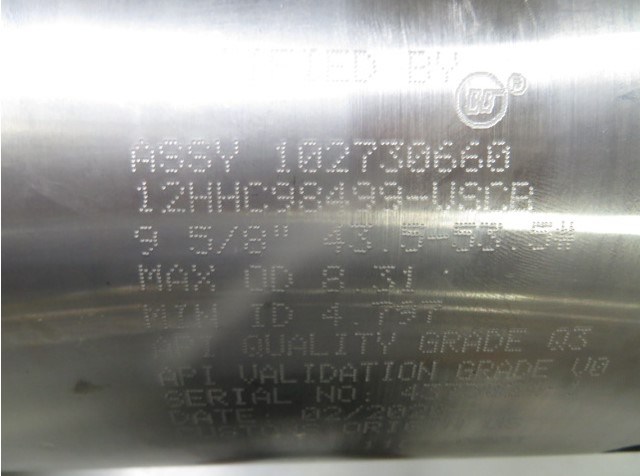character: (123, 134, 158, 173), (212, 134, 242, 176), (296, 135, 325, 176), (160, 180, 188, 219), (186, 178, 215, 215), (214, 178, 243, 215), (482, 178, 511, 215), (406, 139, 434, 177), (483, 136, 511, 174), (139, 300, 170, 334), (477, 218, 504, 257), (371, 260, 398, 299), (159, 136, 184, 178), (510, 178, 537, 216), (352, 137, 377, 177), (131, 223, 161, 256), (192, 303, 222, 336), (187, 139, 215, 174), (456, 139, 484, 174), (191, 261, 217, 298), (378, 139, 406, 173), (164, 262, 192, 296), (325, 138, 350, 175), (324, 178, 349, 215), (242, 180, 268, 215), (349, 178, 375, 213), (456, 180, 482, 215), (136, 262, 164, 294), (187, 222, 214, 255), (241, 224, 268, 257), (298, 180, 324, 214), (320, 264, 346, 298), (271, 179, 296, 214), (349, 220, 374, 255), (400, 219, 425, 254), (433, 139, 457, 175), (244, 263, 269, 297), (380, 180, 404, 215), (269, 261, 295, 293), (133, 179, 155, 216), (318, 301, 345, 331), (432, 180, 456, 213), (454, 219, 477, 253), (169, 301, 192, 334), (323, 223, 345, 257), (172, 334, 195, 366), (531, 218, 552, 253), (373, 331, 400, 358), (274, 135, 292, 174), (414, 359, 441, 385), (305, 332, 330, 360), (566, 325, 590, 354), (482, 326, 503, 359), (270, 301, 293, 331), (394, 356, 420, 382), (529, 357, 553, 385), (590, 357, 613, 386), (422, 297, 444, 327), (353, 330, 375, 360), (506, 324, 526, 357), (397, 298, 418, 329), (371, 300, 394, 328), (416, 330, 439, 358), (265, 332, 287, 361), (277, 362, 302, 387), (150, 336, 173, 363), (548, 326, 568, 357), (439, 330, 461, 358), (256, 362, 278, 390), (243, 333, 264, 362), (197, 333, 218, 361), (285, 332, 306, 360), (400, 263, 418, 295), (317, 363, 339, 389), (358, 359, 380, 385), (572, 355, 591, 385), (512, 358, 532, 386), (155, 365, 178, 389), (337, 361, 358, 387), (456, 357, 476, 384), (460, 331, 481, 356), (178, 364, 197, 391), (476, 359, 496, 384), (300, 362, 318, 389), (251, 300, 266, 332), (199, 363, 219, 387), (239, 362, 258, 387), (334, 330, 350, 359), (378, 360, 395, 387), (493, 361, 512, 384)
